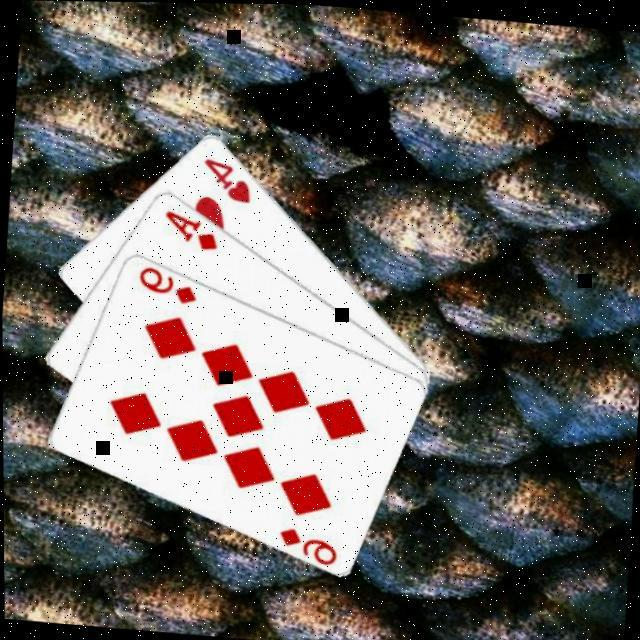4H: (199, 153, 256, 207)
9D: (274, 523, 342, 568), (134, 263, 201, 308)
AD: (160, 205, 223, 254)
